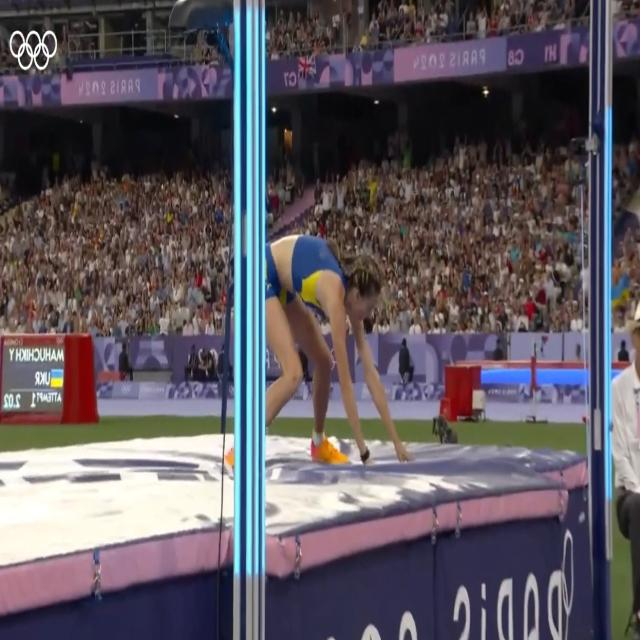land: (266, 231, 415, 463)
